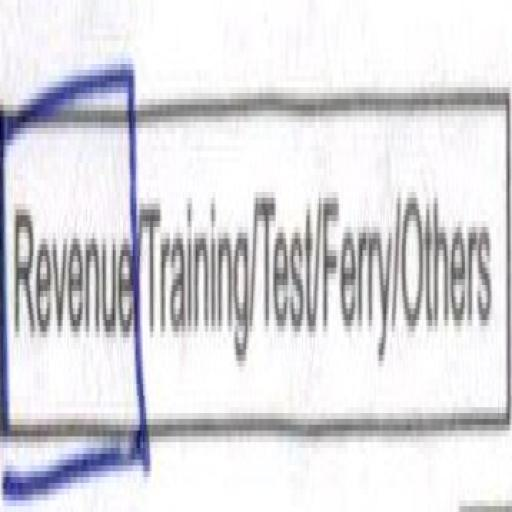check: (0, 46, 142, 512)
